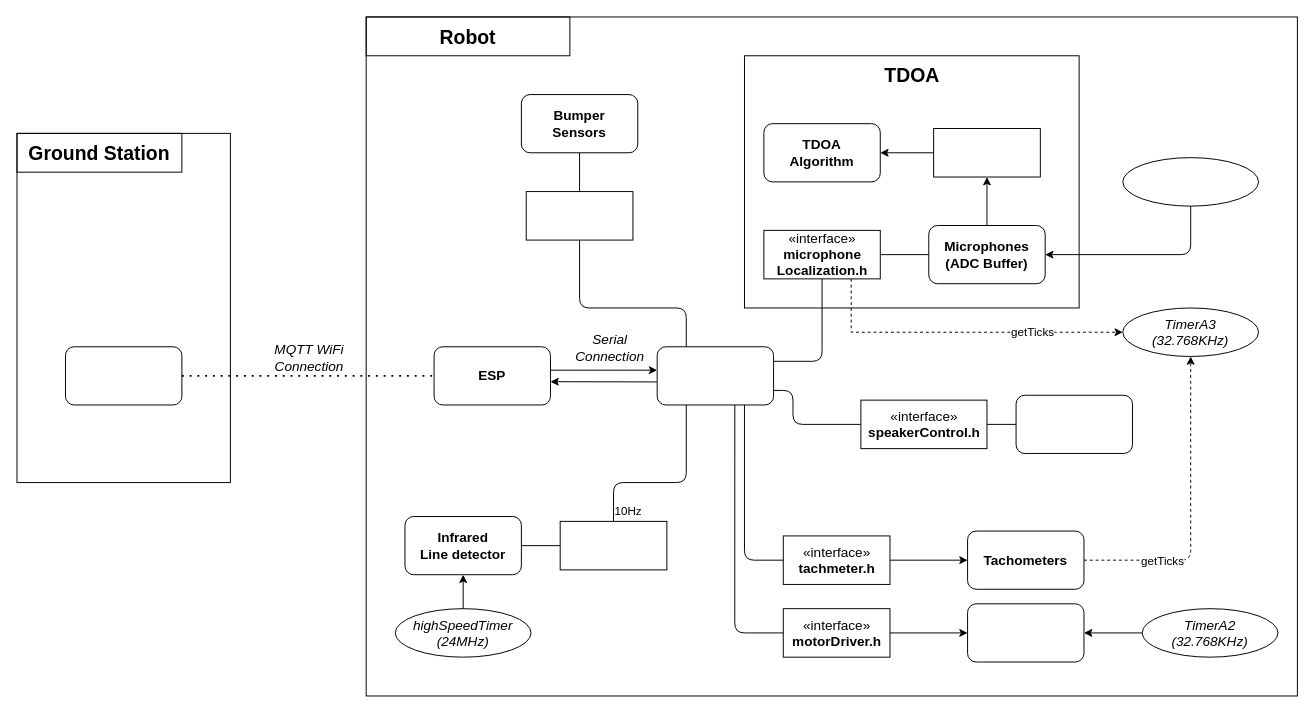
This 1314x713 diagram has some shape labels left out. Here are the shapes that lost their labels. From the top down, the centre of each, then its label:
At point (986, 152): "«interface» tdoaAlgorithm.h".
At point (1190, 181): "TimerA1 (32.768KHz)".
At point (579, 215): "«interface» bumpers.h".
At point (123, 375): "Python Terminal".
At point (715, 375): "MSP432".
At point (1073, 423): "Speaker".
At point (613, 545): "«interface» irSensors.h".
At point (1025, 632): "Wheel Motors PWM".
